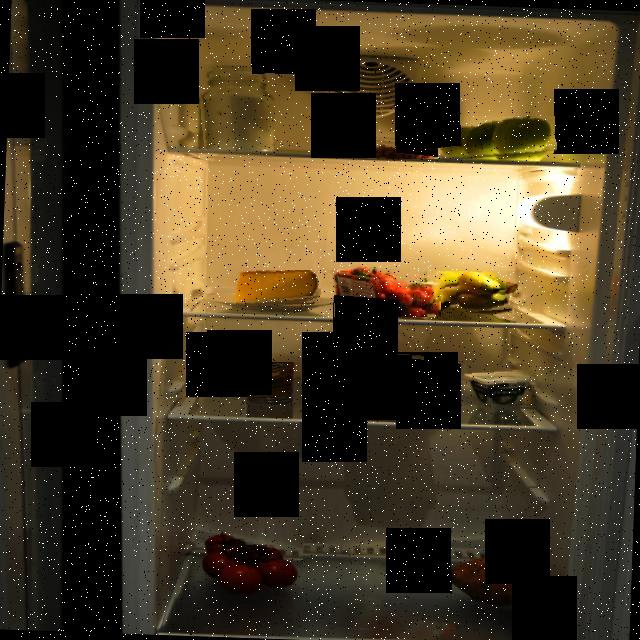apple: (434, 116, 557, 162)
banana: (428, 271, 526, 316)
cheese: (232, 270, 322, 311)
corn: (243, 362, 302, 404)
goat_cheese: (461, 370, 536, 410)
onion: (336, 348, 424, 408)
shrimp: (350, 134, 438, 159)
strawberries: (332, 266, 442, 318)
sugar: (196, 62, 275, 156)
sweet_potato: (440, 549, 544, 609)
tomato: (196, 527, 303, 596)
